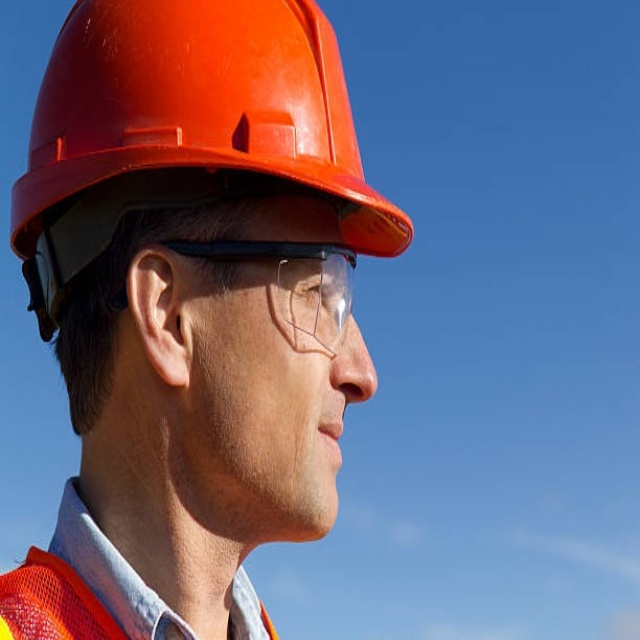Gafas: (137, 238, 361, 356)
Sin_mascara: (268, 397, 355, 529)
